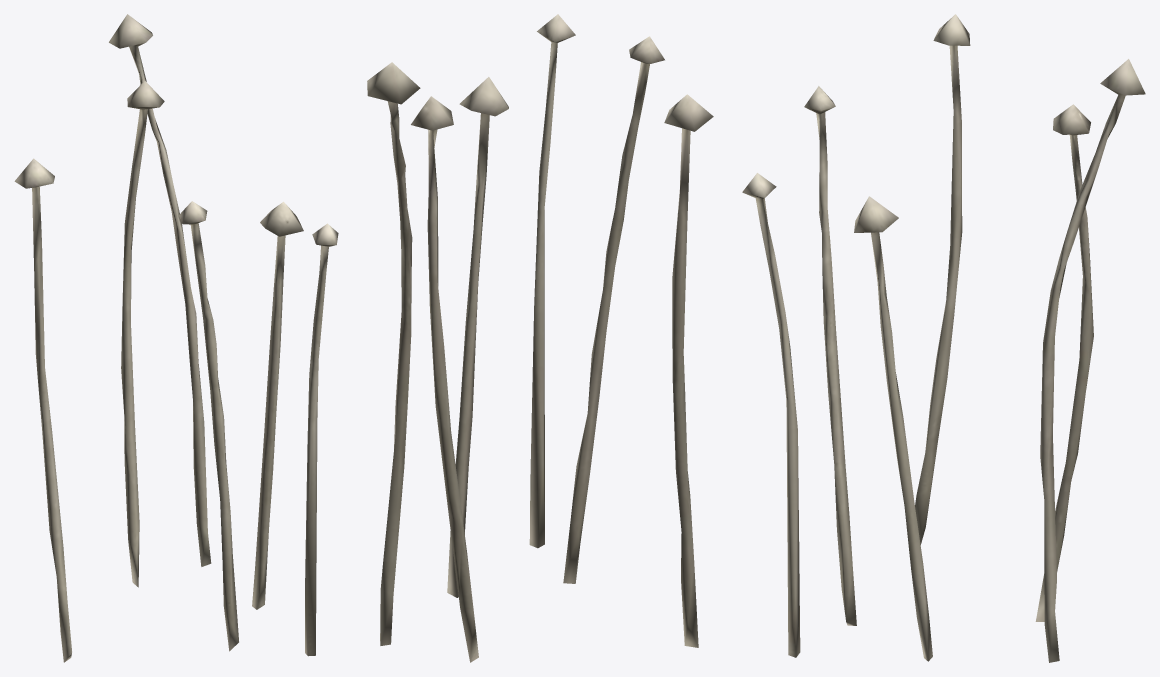
File: mushgrass_e.glb
The picture shows the model from 3 angles, left to right: view 1: azimuth 30°, elevation 25°; view 2: azimuth 150°, elevation 25°; view 3: azimuth 270°, elevation 25°; orthographic projection. The views are drawn at different scales.
Visible parts, largest first — view 1: mushgrass; view 2: mushgrass; view 3: mushgrass.
Part boxes in pixels (<box>): mushgrass: <box>14,14,338,662</box>; mushgrass: <box>367,14,713,662</box>; mushgrass: <box>742,14,1145,662</box>.
Bounding box in the file's own units: 0.0848 × 0.1776 × 0.1118.
1 material, 1 textured.
